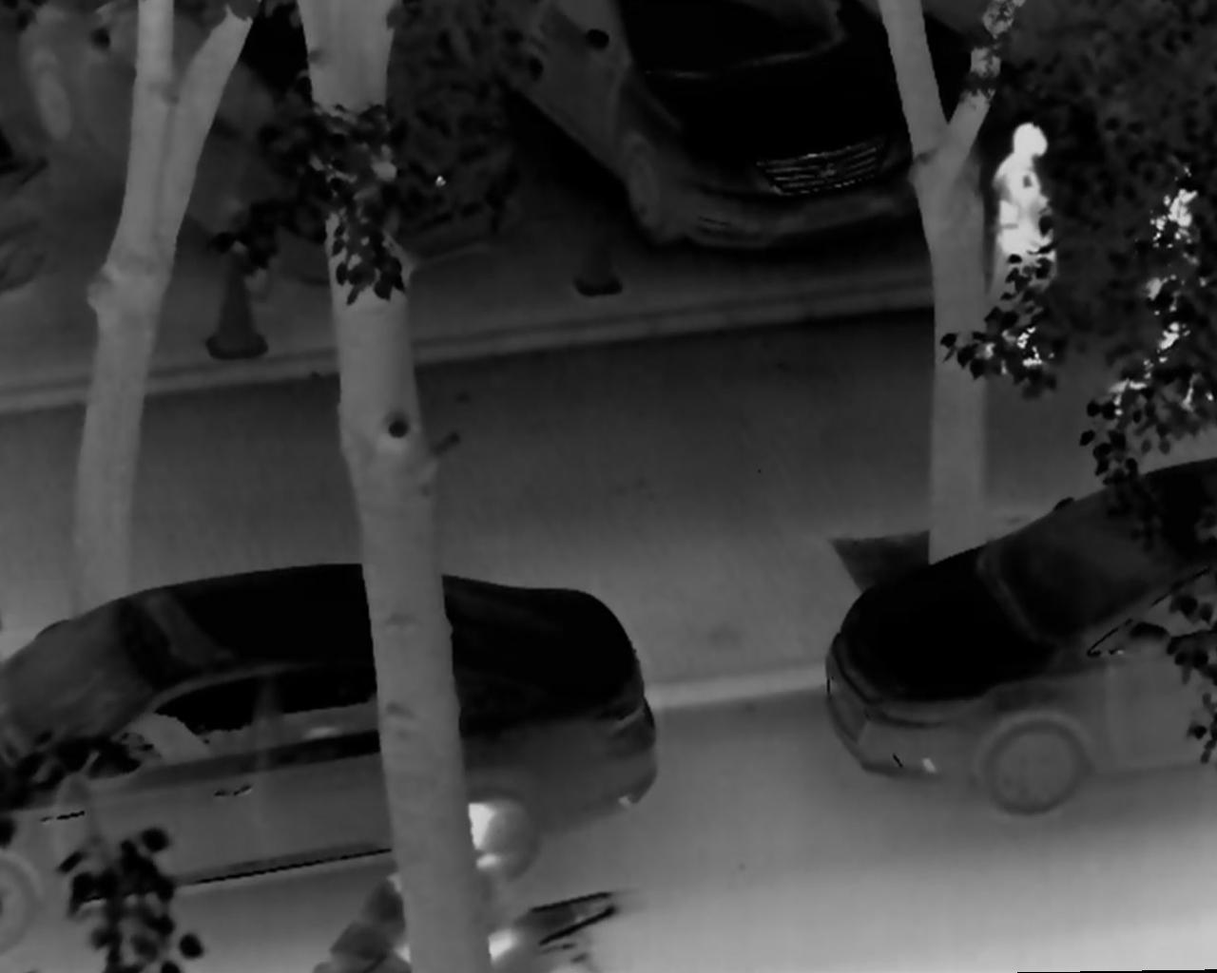person: (1107, 146, 1217, 422), (379, 833, 523, 973), (981, 123, 1053, 377)
